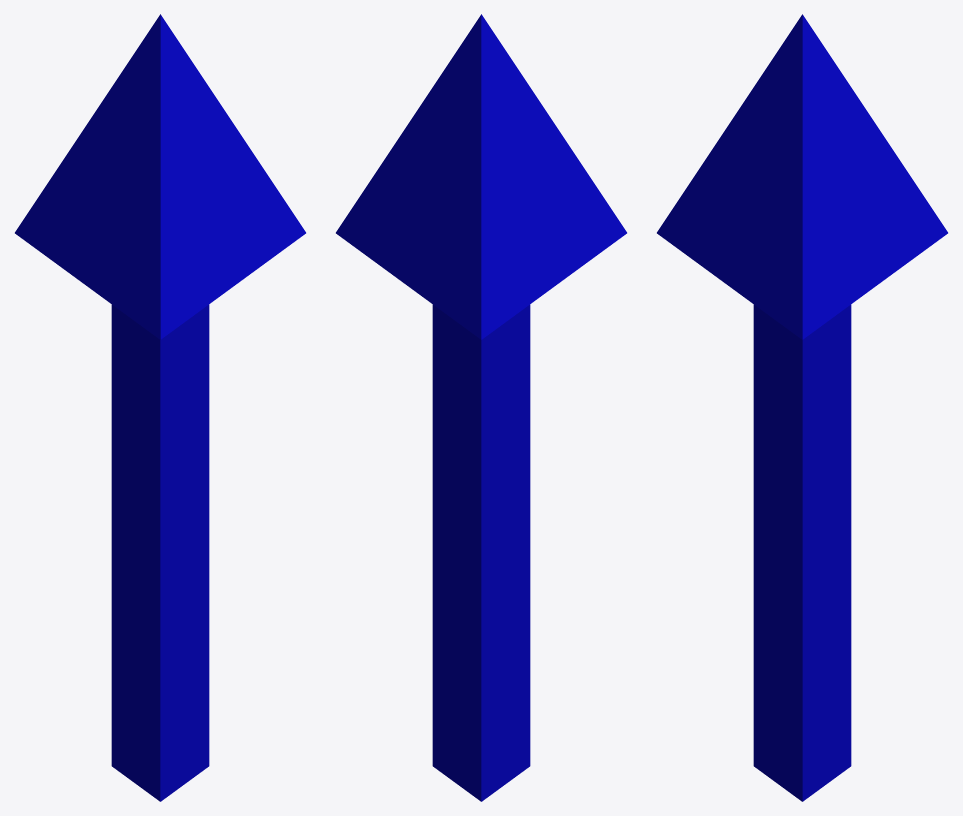
The model's file is speedVector.obj.
The picture shows the model from 3 angles, left to right: view 1: azimuth 30°, elevation 25°; view 2: azimuth 150°, elevation 25°; view 3: azimuth 270°, elevation 25°; orthographic projection.
Visible parts, largest first — view 1: pCylinder2; view 2: pCylinder2; view 3: pCylinder2.
Part boxes in pixels (x1,y1,x2,y2): pCylinder2: (15, 14, 305, 801); pCylinder2: (336, 14, 626, 801); pCylinder2: (657, 14, 947, 801).
Size of the model in its own units: 0.45 by 1.5 by 0.5196.
